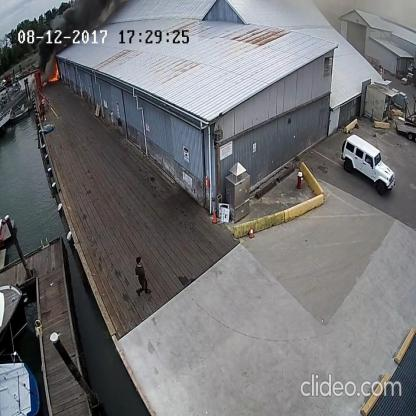fire: (47, 58, 60, 84)
